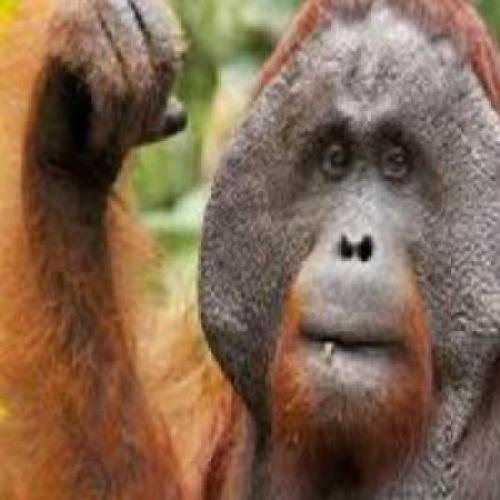orangutan-endangered: (67, 9, 495, 453)
